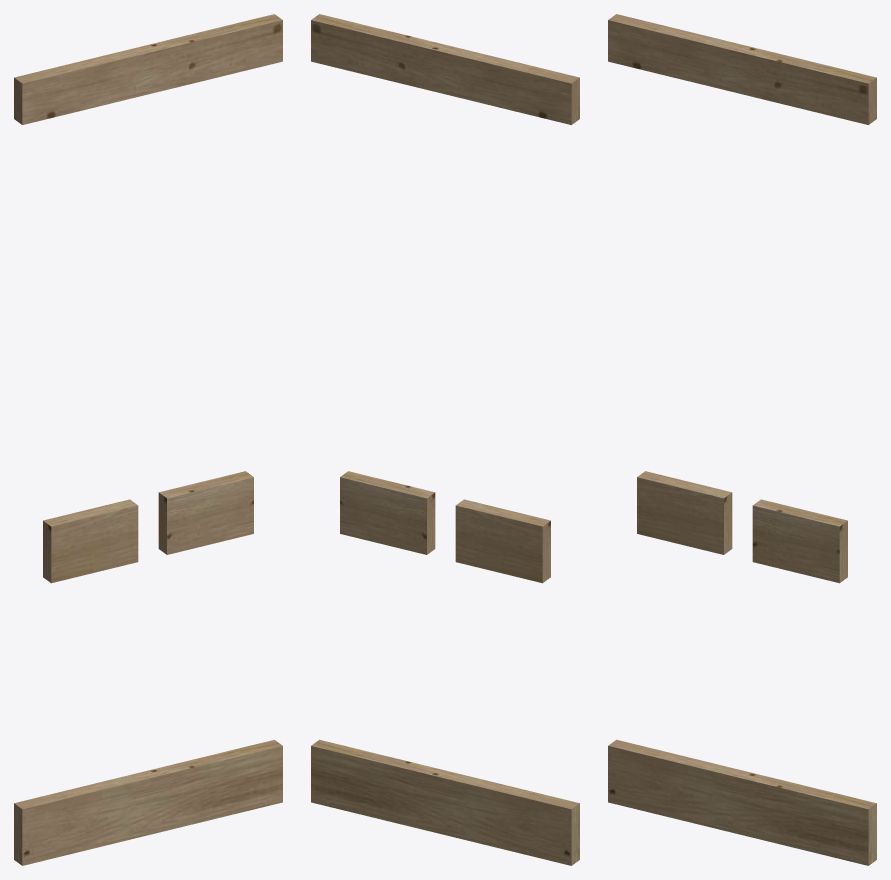
The model's file is Joglo_part_267.fbx.
3 views of the same model, side by side, from view 1: azimuth 30°, elevation 25°; view 2: azimuth 150°, elevation 25°; view 3: azimuth 330°, elevation 25° (orthographic).
Visible parts, largest first — view 1: Mesh334_Wood___Pine_Grained_Horizontal_0.001; view 2: Mesh334_Wood___Pine_Grained_Horizontal_0.001; view 3: Mesh334_Wood___Pine_Grained_Horizontal_0.001.
Boxes of the visible parts, left/top/right/bottom form: Mesh334_Wood___Pine_Grained_Horizontal_0.001: left=14, top=14, right=282, bottom=865; Mesh334_Wood___Pine_Grained_Horizontal_0.001: left=311, top=14, right=579, bottom=865; Mesh334_Wood___Pine_Grained_Horizontal_0.001: left=608, top=14, right=876, bottom=865.
Size of the model in its own units: 28.42 by 81.57 by 1.57.
